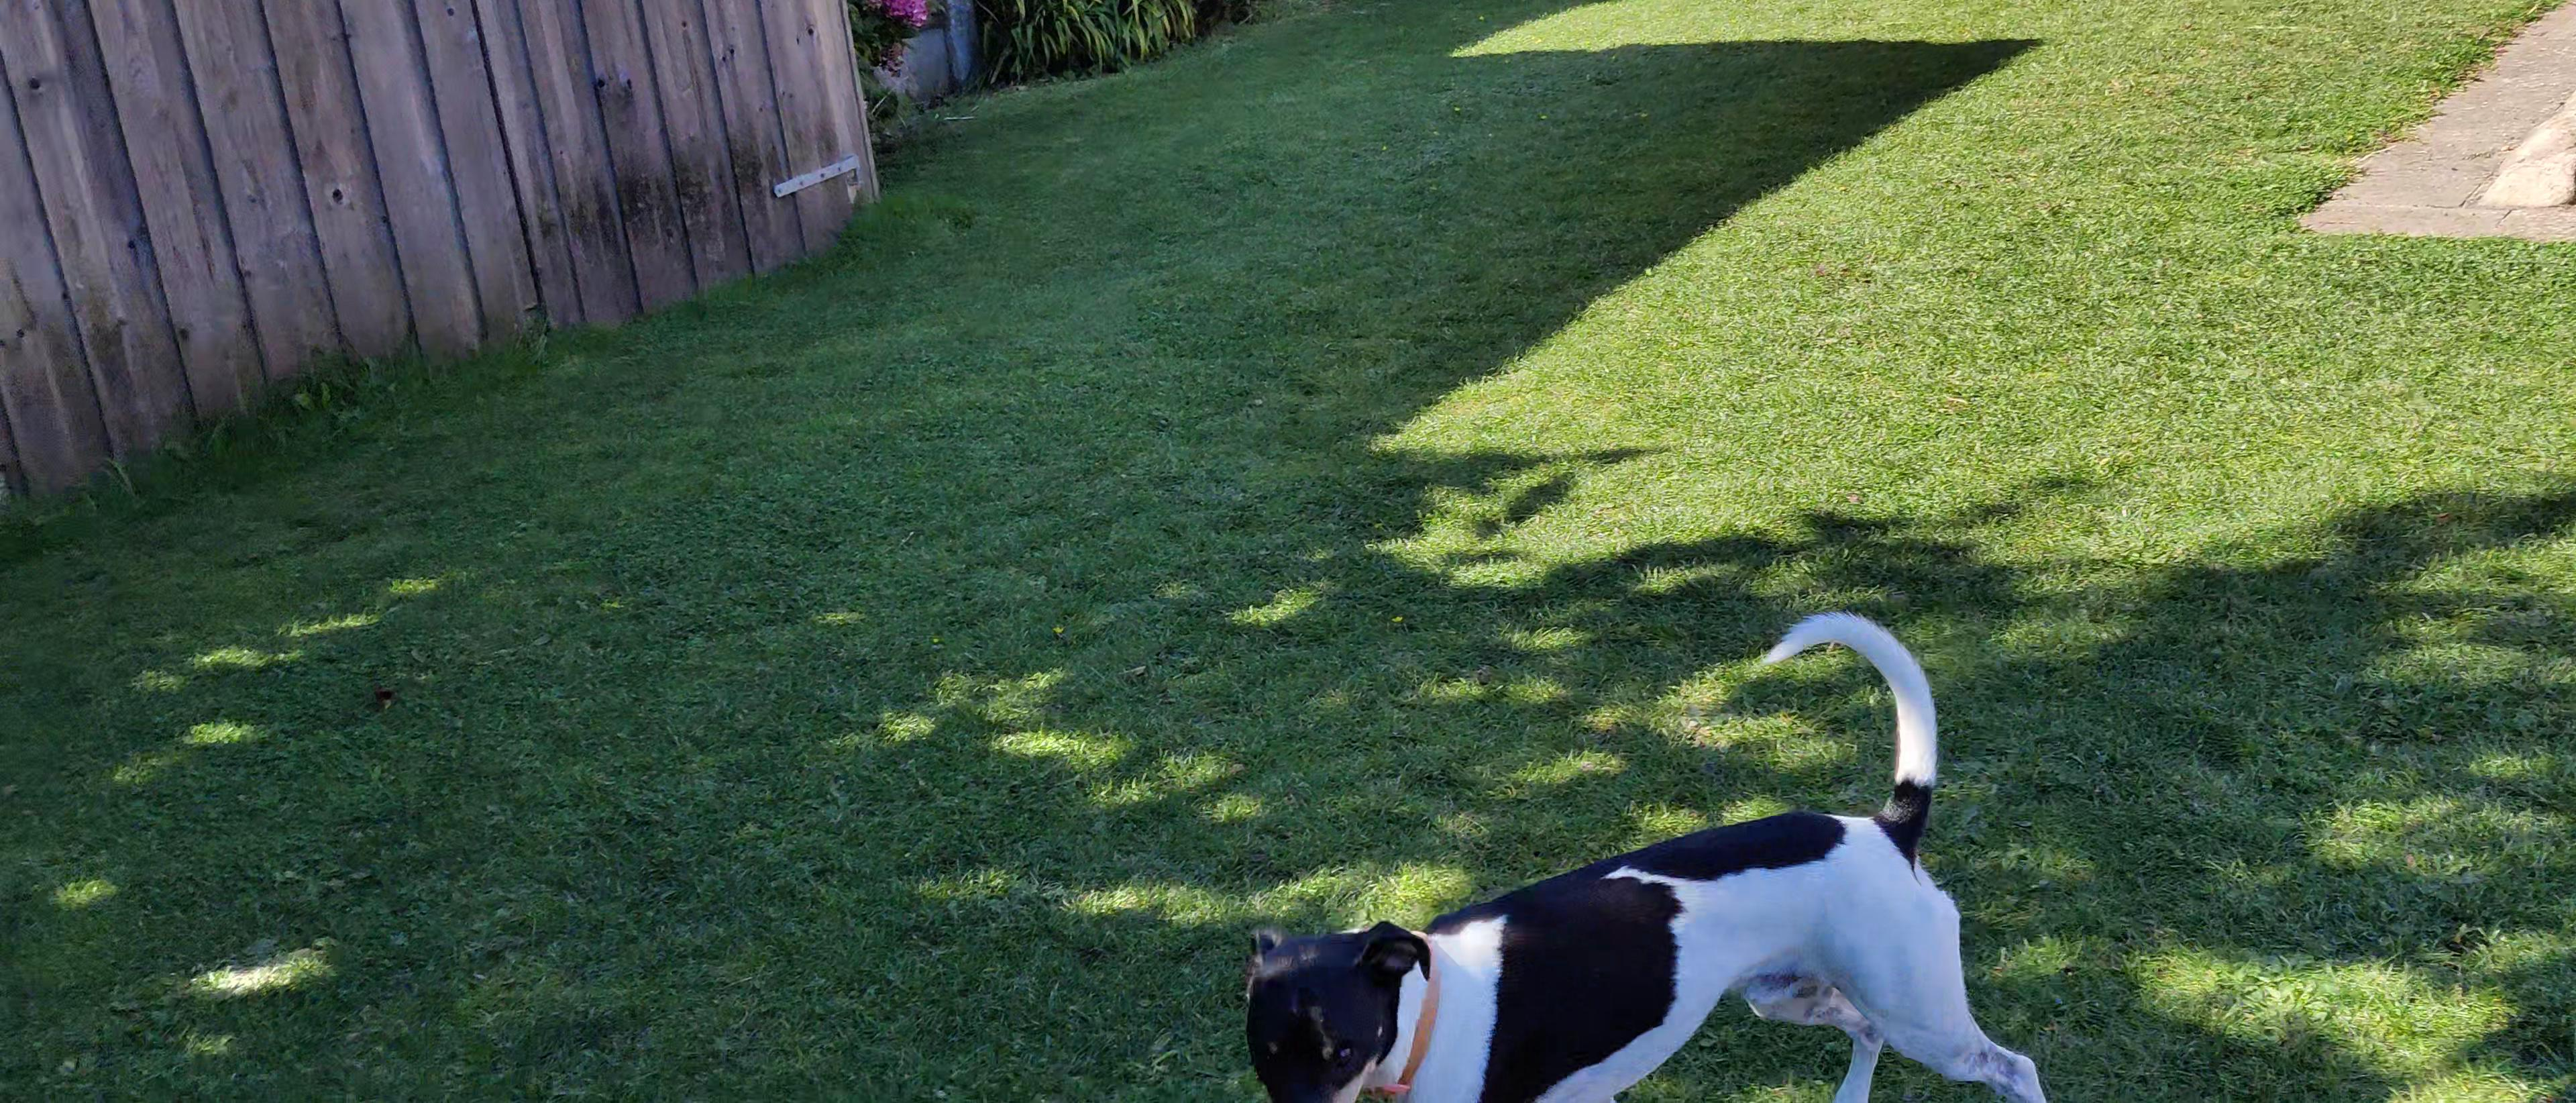Dog: (1209, 592, 2070, 1103)
